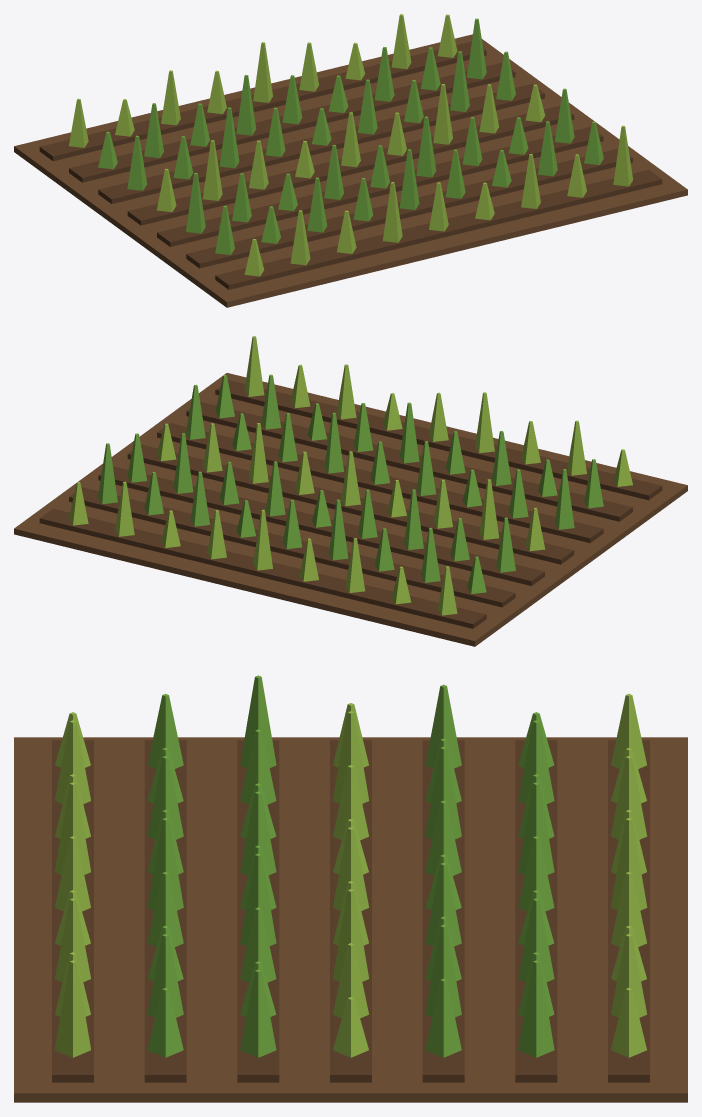
Rendered from field.glb.
3 views of the same model, one above another, from view 1: azimuth 30°, elevation 25°; view 2: azimuth 150°, elevation 25°; view 3: azimuth 270°, elevation 25° (orthographic). The views are drawn at different scales.
Parts seen in each view (by area): view 1: field; view 2: field; view 3: field.
Part boxes in pixels (x1=…): field: x1=14, y1=14, x2=687, y2=307; field: x1=14, y1=336, x2=687, y2=646; field: x1=14, y1=675, x2=687, y2=1102.
Bounding box in the file's own units: 10 × 1.38 × 8.
